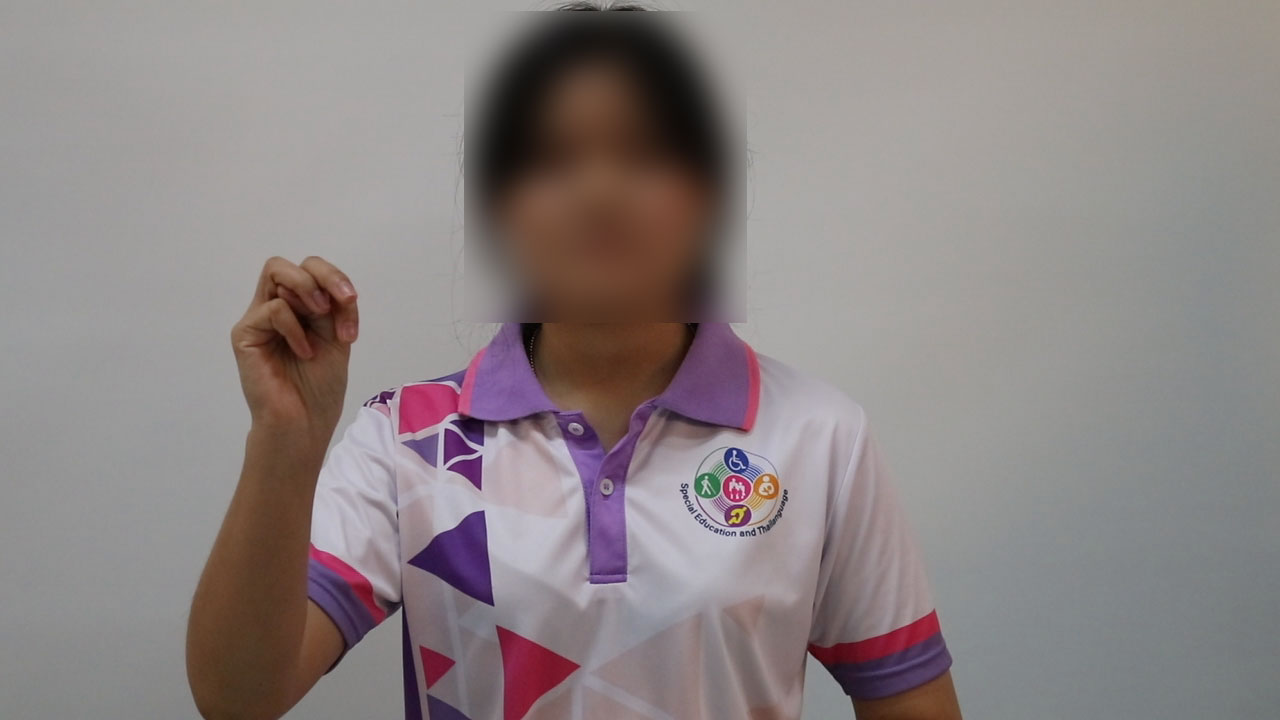mor: (217, 217, 367, 460)
